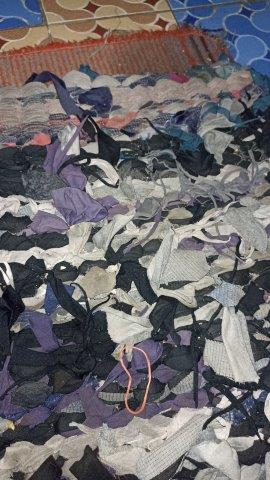karet: (120, 346, 151, 414)
